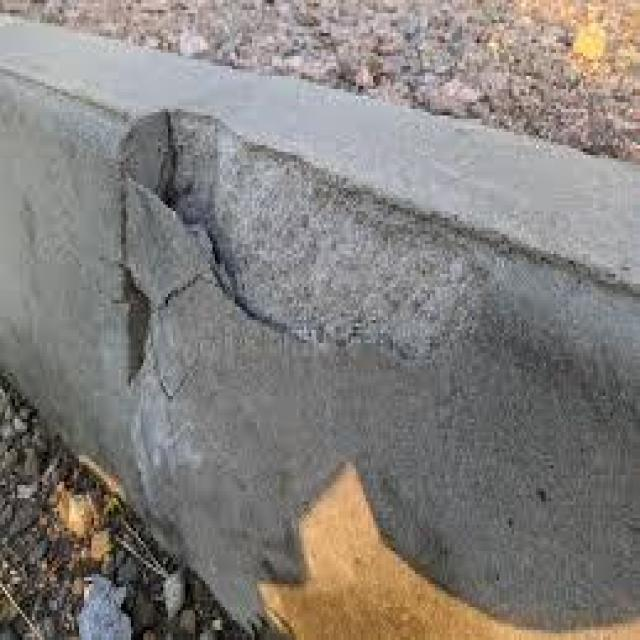curb: (4, 12, 640, 640)
